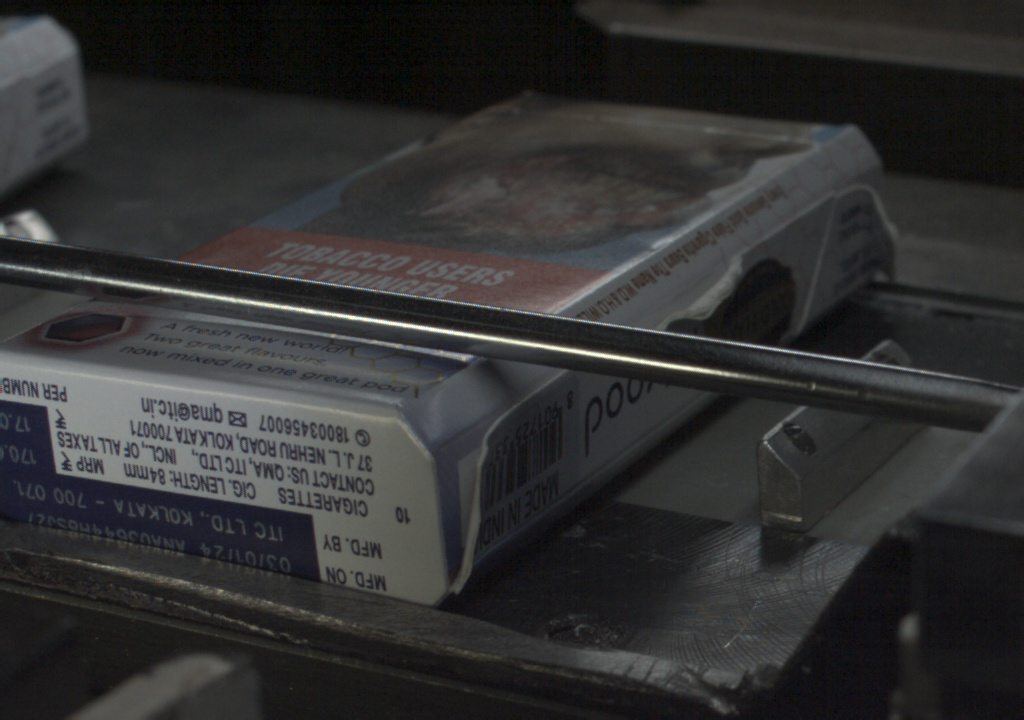ng_lmiter: (434, 428, 492, 599), (652, 251, 751, 329)
ng_miter: (840, 169, 897, 286)
